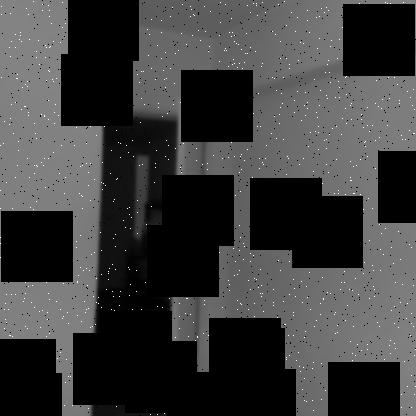Porte: (91, 97, 215, 415)
